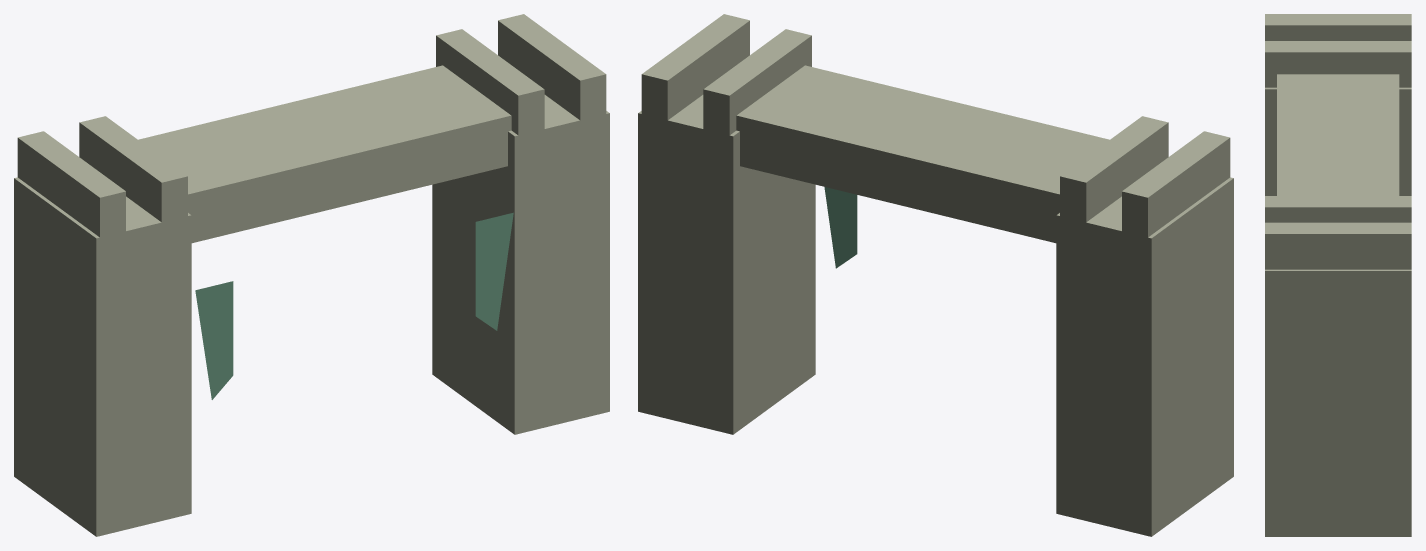
3 views of the same model, side by side, from view 1: azimuth 30°, elevation 25°; view 2: azimuth 150°, elevation 25°; view 3: azimuth 270°, elevation 25° (orthographic). The views are drawn at different scales.
Parts seen in each view (by area): view 1: ad30f701db133c2b1c7766a87bd4c1861f8e22d70b6b253224e48a803be2; view 2: ad30f701db133c2b1c7766a87bd4c1861f8e22d70b6b253224e48a803be2; view 3: ad30f701db133c2b1c7766a87bd4c1861f8e22d70b6b253224e48a803be2.
Part boxes in pixels (left/top/right/bottom): ad30f701db133c2b1c7766a87bd4c1861f8e22d70b6b253224e48a803be2: left=14, top=14, right=609, bottom=536; ad30f701db133c2b1c7766a87bd4c1861f8e22d70b6b253224e48a803be2: left=638, top=14, right=1233, bottom=536; ad30f701db133c2b1c7766a87bd4c1861f8e22d70b6b253224e48a803be2: left=1265, top=14, right=1411, bottom=536.
Size of the model in its own units: 10.8 by 6.8 by 3.05.
